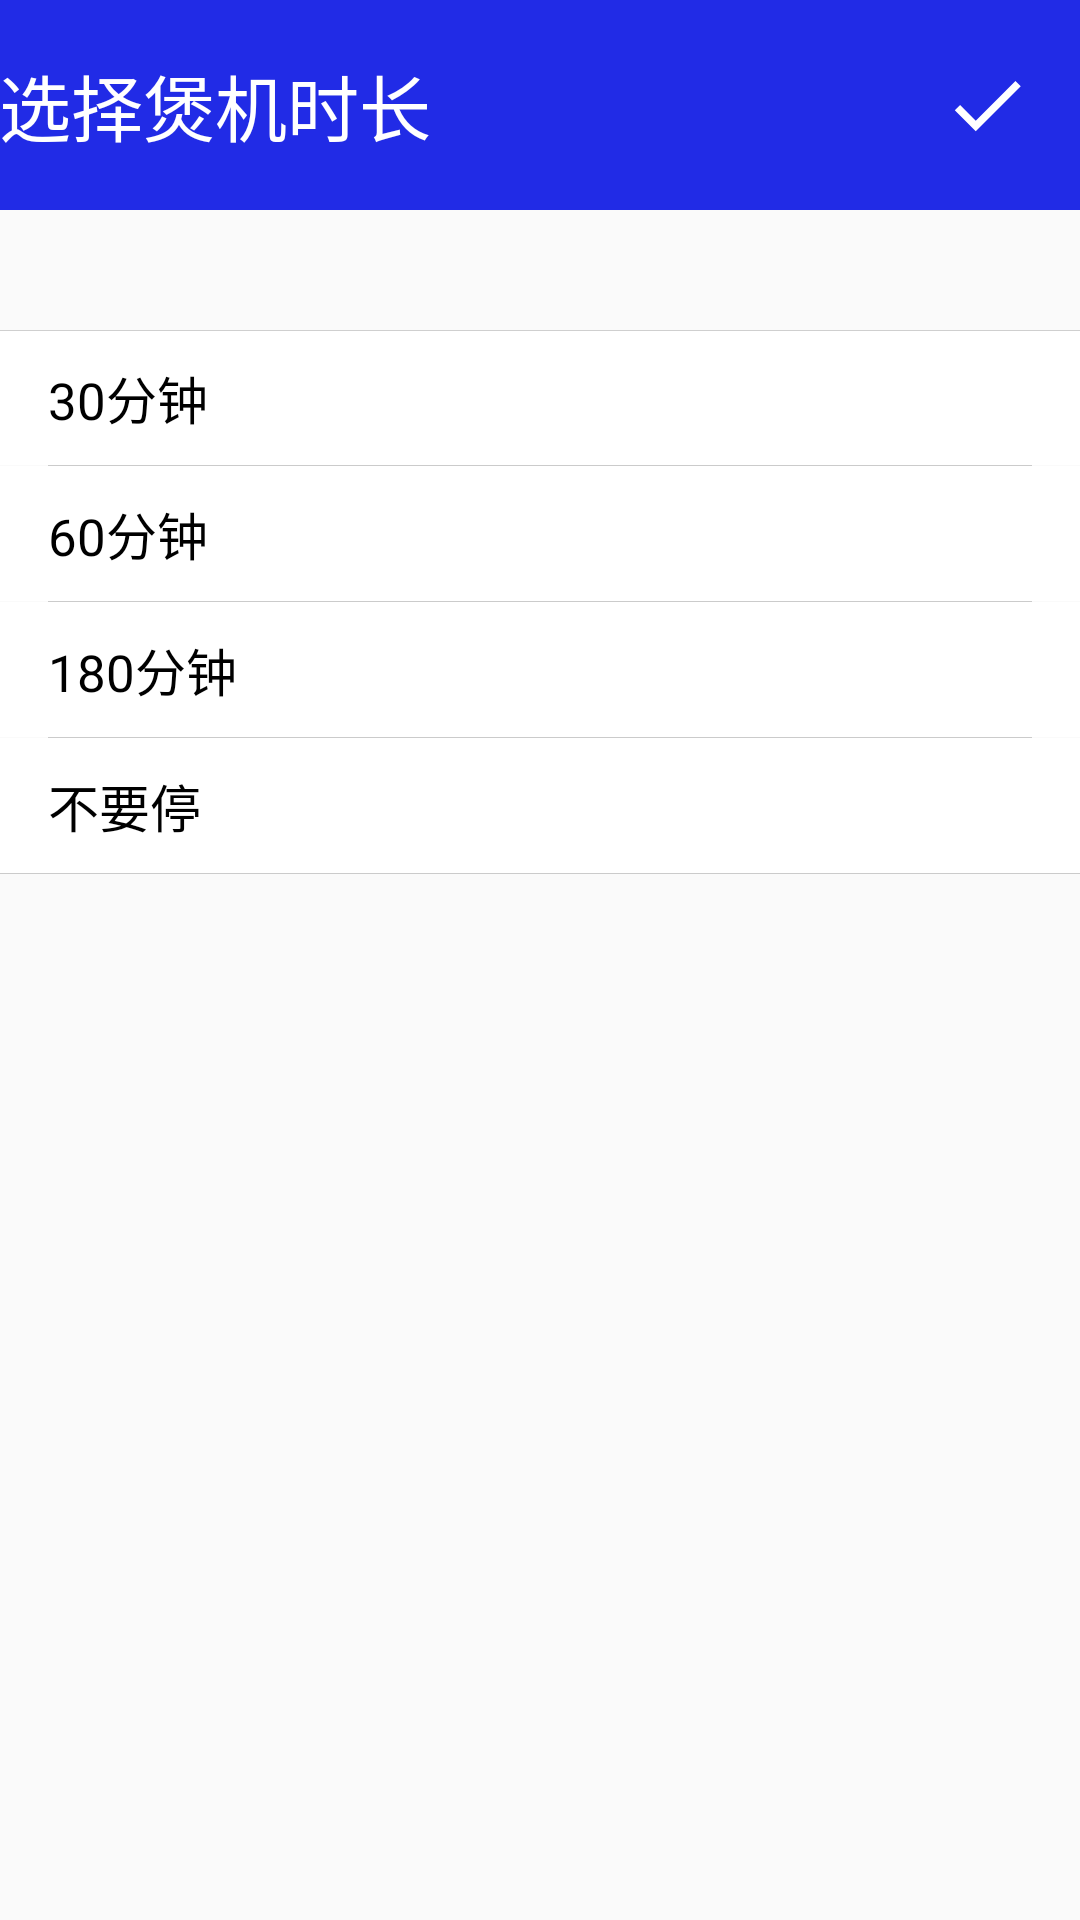

Screen size 1080 × 1920. Icon name, then its center in pixels as point (x, y):
check: point (988, 106)
